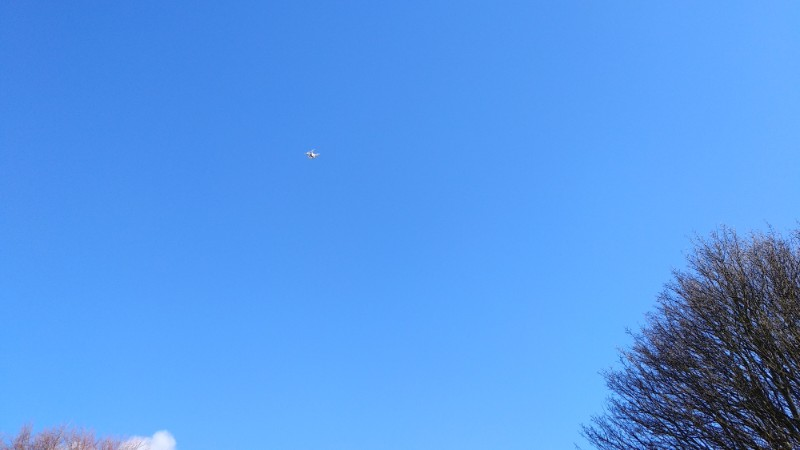drone: (306, 149, 317, 160)
